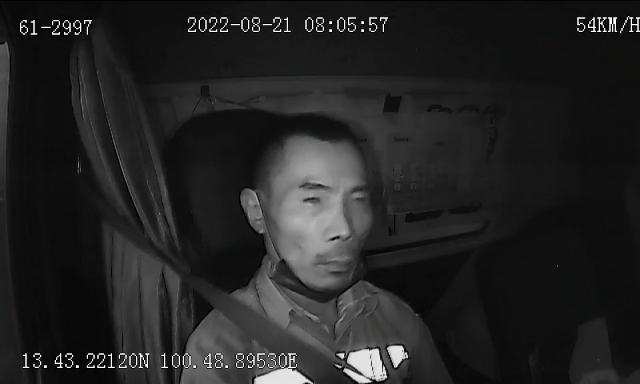SafeDriving: (296, 186, 332, 210), (344, 186, 374, 211)
Seatbelt: (128, 222, 358, 384)
